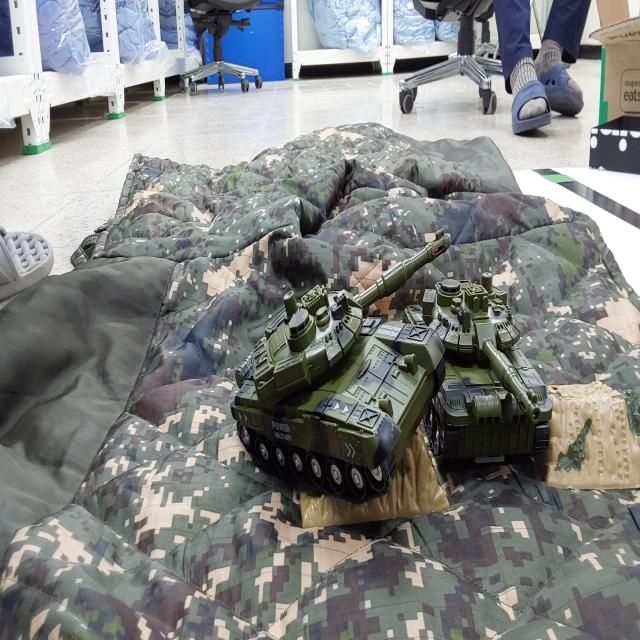enem_tank: (231, 230, 449, 503), (403, 273, 552, 462)
